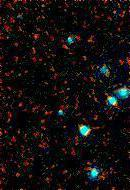star: (21, 25, 51, 55)
